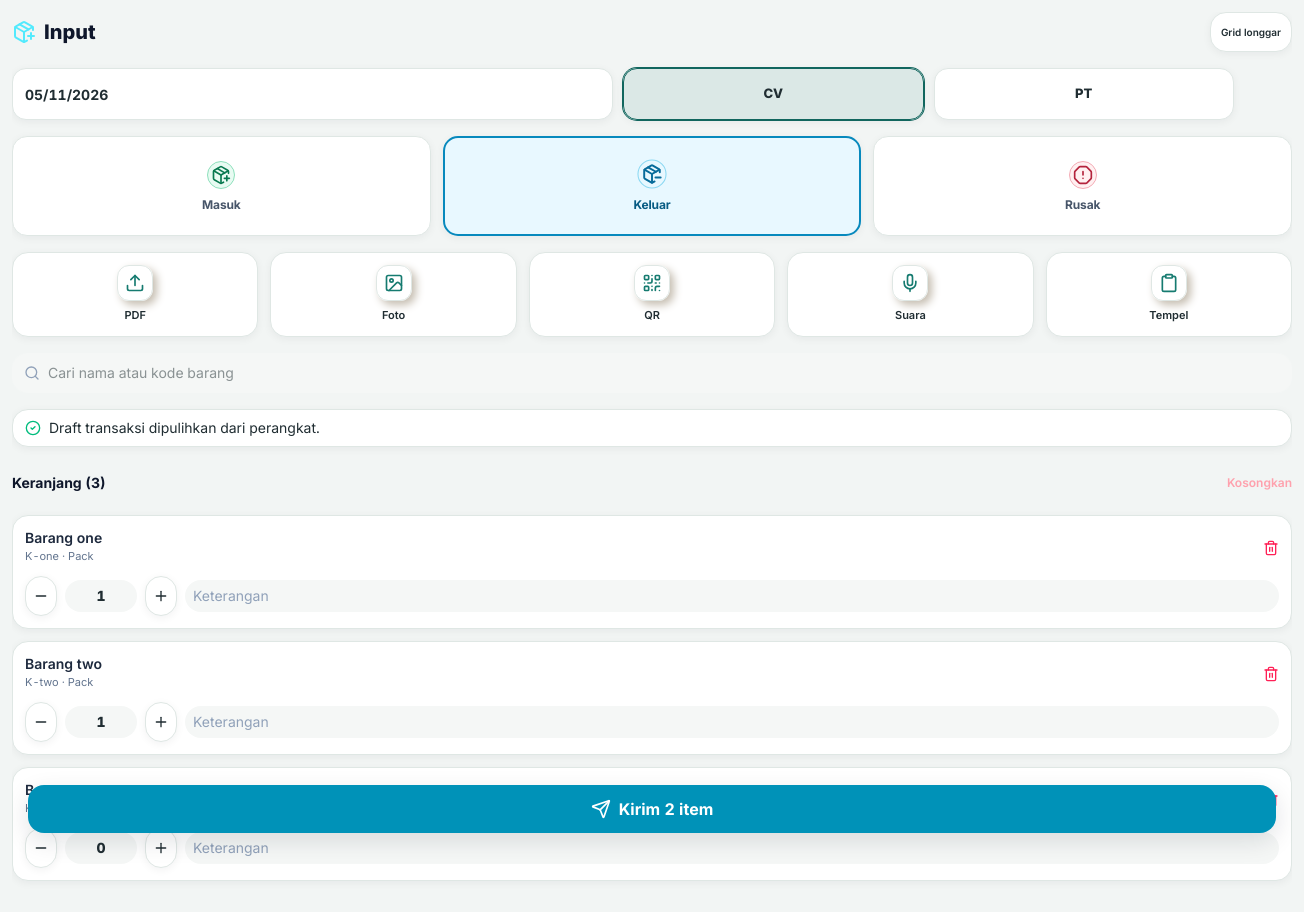
InputPage PR 1 › menyiapkan transaksi untuk antrean tanpa menulis ke backend atau membuat hasil akhir
The image size is (1304, 912).
Click the button "Kirim 2 item": (652, 809) [28, 785, 1276, 833]
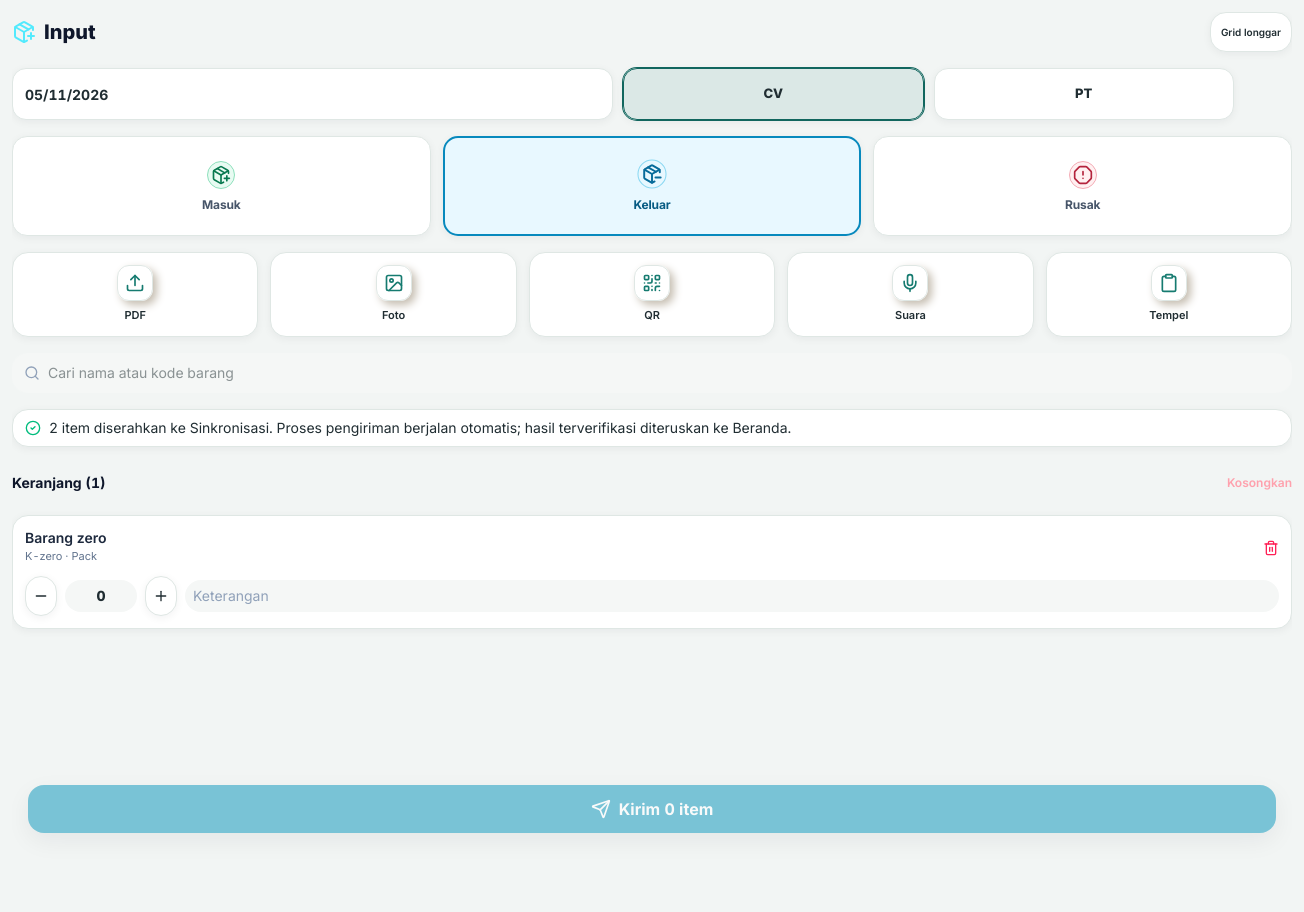
Expected: the text "Barang zero" is shown, [25, 528, 106, 548]
Result: the text "Barang one" is gone
